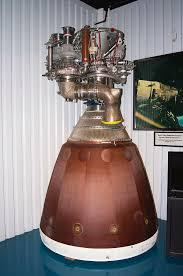thruster: (37, 109, 161, 264)
